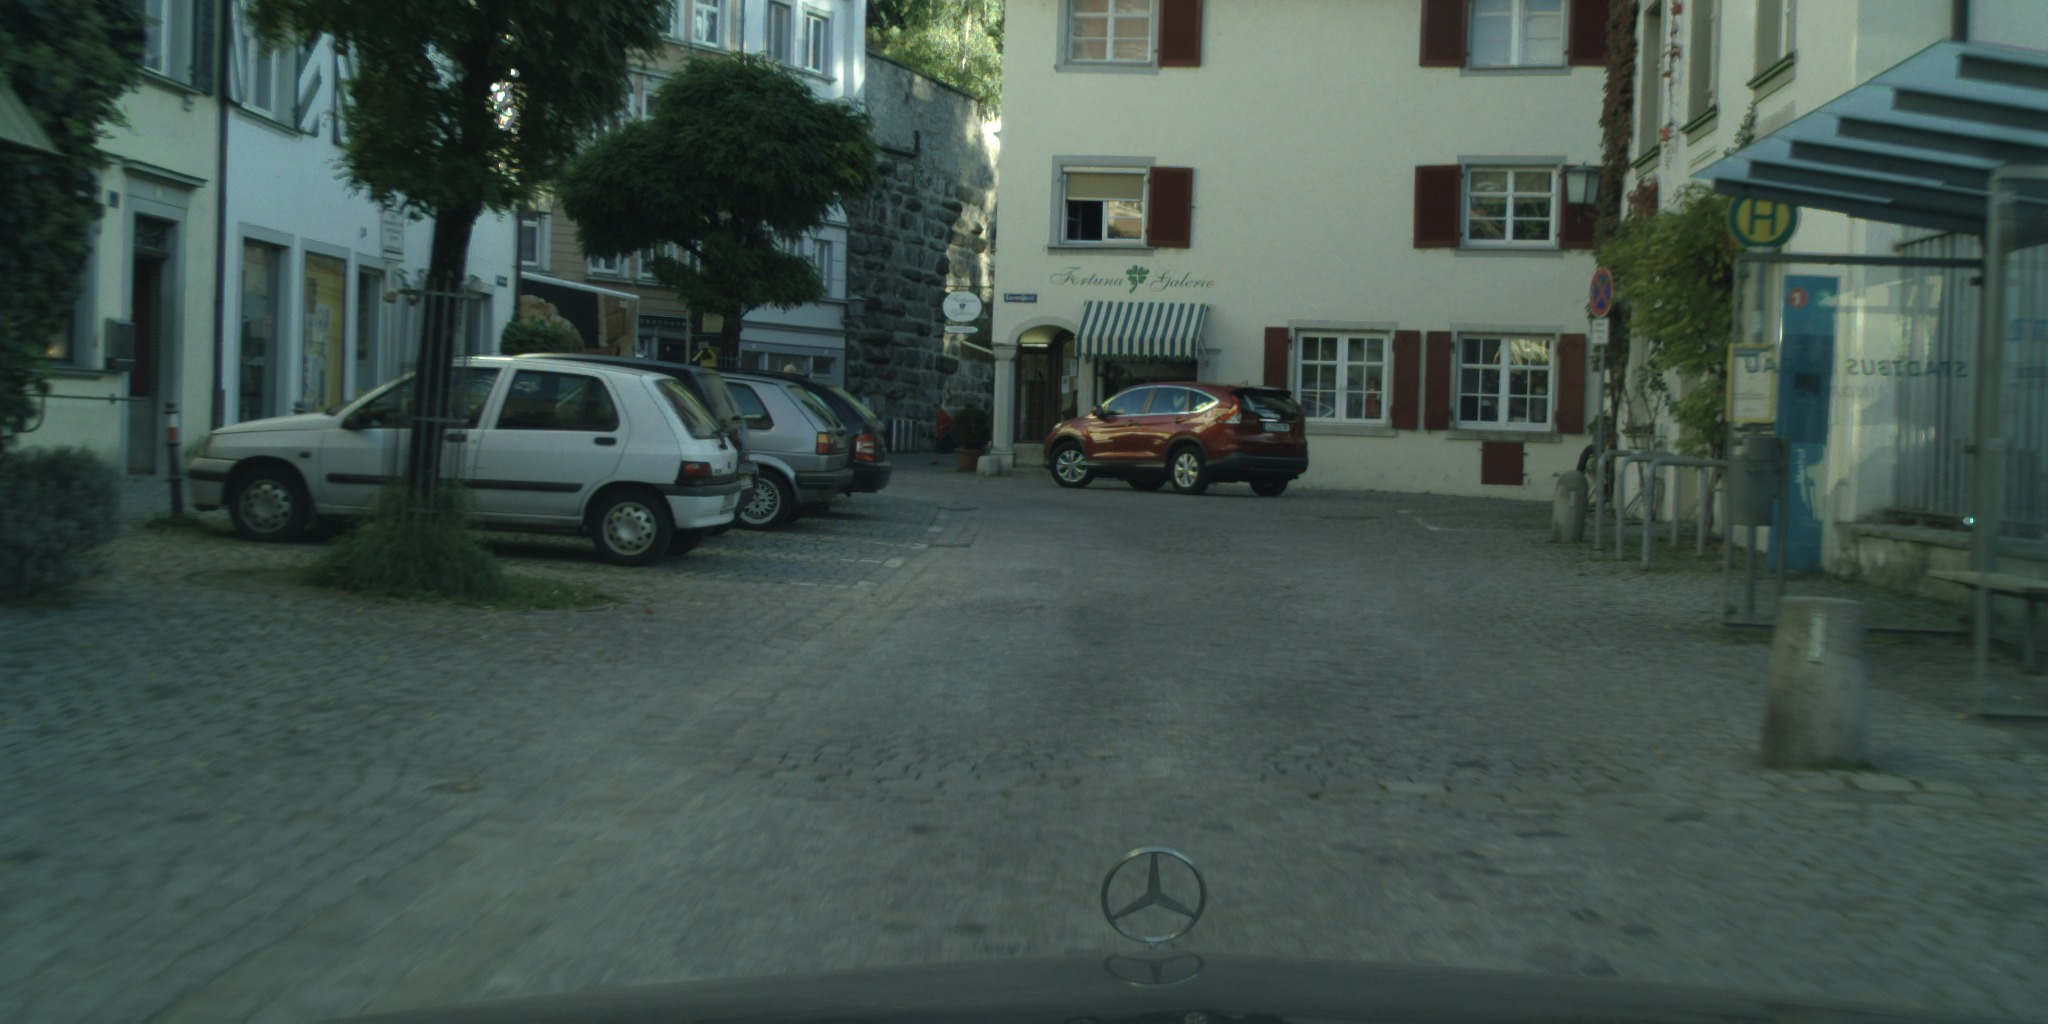car: (187, 355, 743, 569), (511, 353, 758, 533), (1043, 382, 1309, 497), (710, 367, 893, 496), (708, 370, 854, 530)
person: (930, 404, 961, 464)
